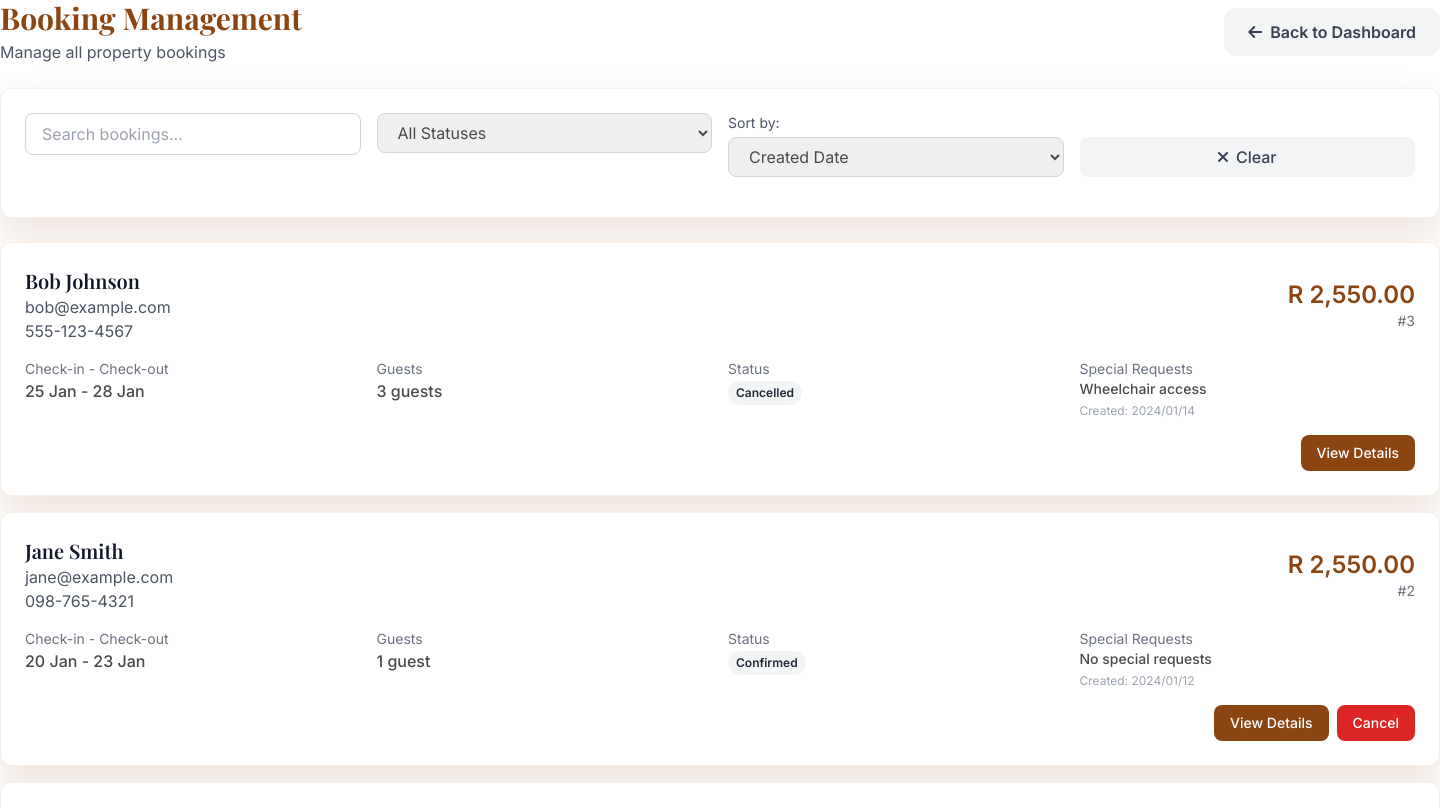
it: BookingList Component › Sorting › sorts bookings by check-in date
Select "Check-in Date" in the dropdown below "Sort by:" at (896, 157), box 728,137 -> 1064,177
(page scrolled)
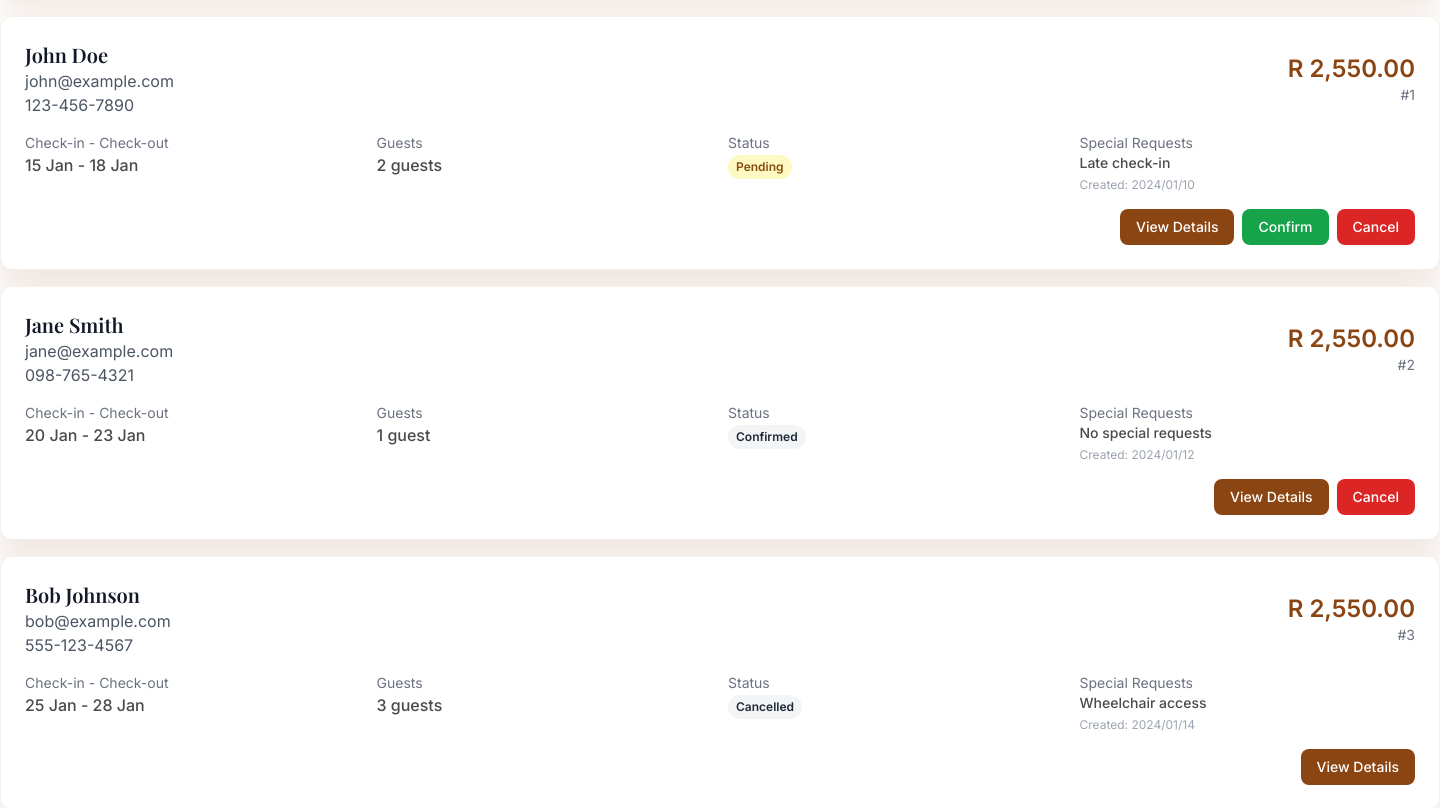
Expected: the heading "Jane Smith" is shown, 25,311 -> 124,338
Now the heading "John Doe" is shown, box 25,41 -> 108,68
Now the heading "Bob Johnson" is shown, box 25,581 -> 140,608
